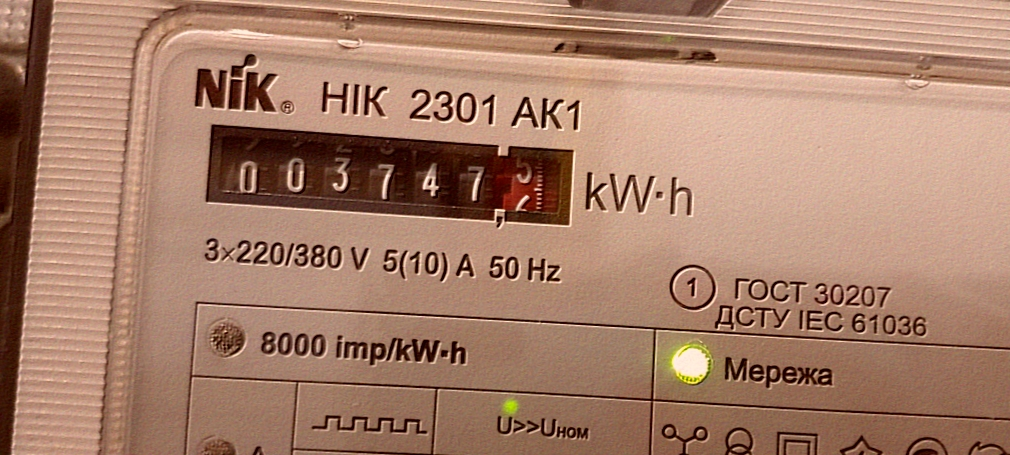0: (284, 153, 306, 193), (236, 157, 260, 193)
3: (330, 154, 351, 192)
4: (419, 158, 442, 199)
5: (513, 155, 534, 184)
6: (512, 190, 532, 212)
7: (462, 161, 487, 202), (374, 160, 395, 200)
screen: (195, 112, 589, 241)
